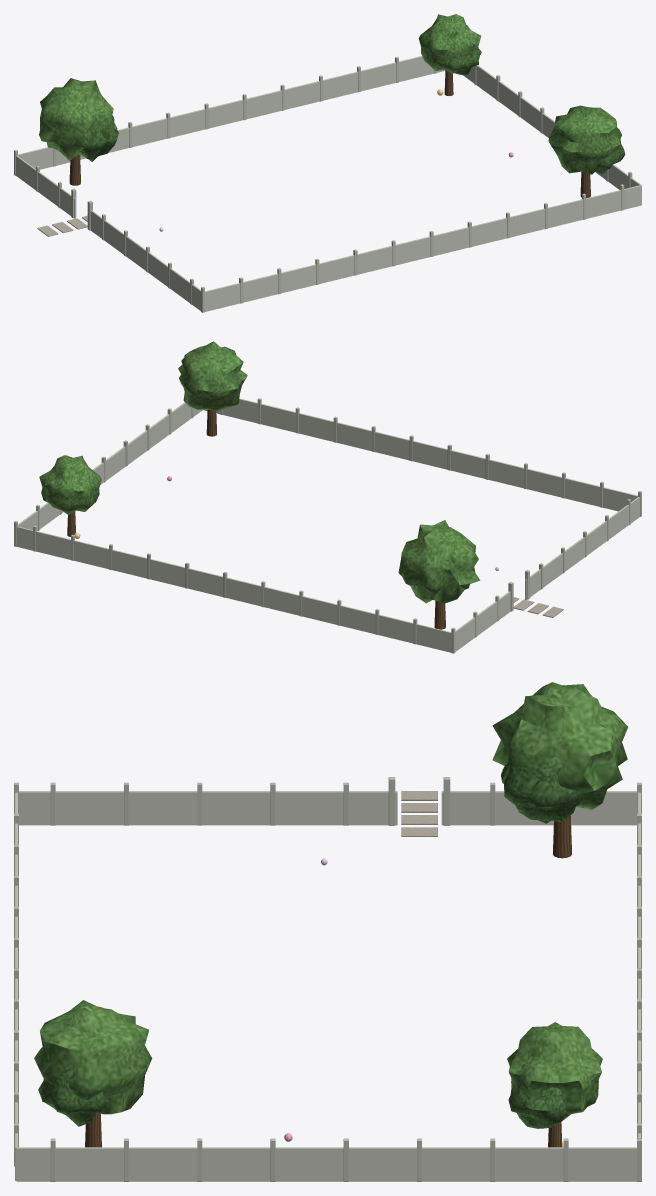
Rendered from yard.glb.
3 renders of one model, top to bottom at view 1: azimuth 30°, elevation 25°; view 2: azimuth 150°, elevation 25°; view 3: azimuth 270°, elevation 25°, orthographic. The views are drawn at different scales.
Parts seen in each view (by area): view 1: fence0.001, fence0, tree1_c1, tree2_c1, tree3_c1, fence0.003, fence1, fence0.002, tree1_c2, tree2_c2; view 2: fence0, fence0.001, tree1_c1, tree2_c1, tree3_c1, fence0.003, fence1, fence0.002; view 3: fence0.003, fence1, tree1_c1, tree2_c1, tree3_c1, fence0.002, tree1_c2, tree2_c2, tree3_c2, fence0.001, fence0, tree1_trunk.
Boxes of the visible parts, x1=… form: fence0.001: x1=205, y1=185, x2=641, y2=311; fence0: x1=18, y1=56, x2=445, y2=169; tree1_c1: x1=39, y1=78, x2=117, y2=160; tree2_c1: x1=548, y1=105, x2=621, y2=174; tree3_c1: x1=418, y1=14, x2=481, y2=73; fence0.003: x1=463, y1=65, x2=641, y2=204; fence1: x1=90, y1=210, x2=200, y2=310; fence0.002: x1=16, y1=155, x2=75, y2=218; tree1_c2: x1=82, y1=115, x2=118, y2=161; tree2_c2: x1=595, y1=132, x2=625, y2=173; fence0: x1=17, y1=526, x2=451, y2=652; fence0.001: x1=203, y1=398, x2=637, y2=511; tree1_c1: x1=398, y1=520, x2=480, y2=603; tree2_c1: x1=178, y1=341, x2=247, y2=411; tree3_c1: x1=39, y1=455, x2=101, y2=514; fence0.003: x1=18, y1=402, x2=202, y2=530; fence1: x1=525, y1=497, x2=639, y2=599; fence0.002: x1=455, y1=591, x2=510, y2=651; fence0.003: x1=16, y1=1147, x2=636, y2=1181; fence1: x1=19, y1=791, x2=397, y2=825; tree1_c1: x1=492, y1=682, x2=628, y2=809; tree2_c1: x1=34, y1=1000, x2=152, y2=1114; tree3_c1: x1=507, y1=1022, x2=602, y2=1125; fence0.002: x1=441, y1=791, x2=636, y2=825; tree1_c2: x1=501, y1=754, x2=586, y2=823; tree2_c2: x1=38, y1=1053, x2=108, y2=1126; tree3_c2: x1=508, y1=1062, x2=567, y2=1128; fence0.001: x1=15, y1=792, x2=17, y2=1180; fence0: x1=638, y1=792, x2=640, y2=1138; tree1_trunk: x1=553, y1=815, x2=571, y2=858.
Size of what is drawn, in the model's own units: 25.15 by 5.05 by 17.14.
Materials: 9 (4 with a texture image).
